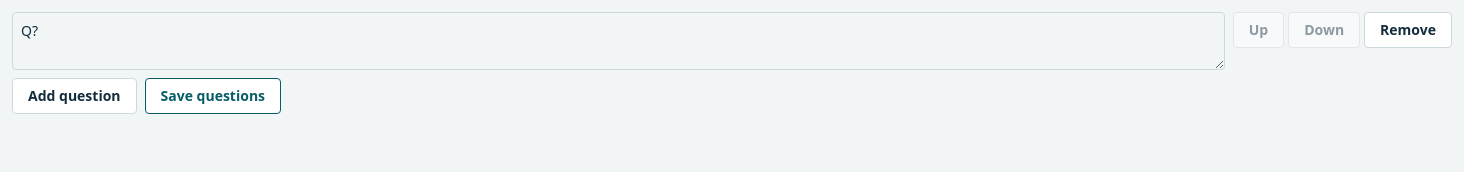
Test case: DraftQuestionsEditor (#154) › shows the server's refusal, e.g. once the audit is launched
What coordinates should you click on to do the following:
click the button with aria-label "Save questions for SEC-001"
I would click on:
 (213, 96)
Its box is [144,78,281,114].
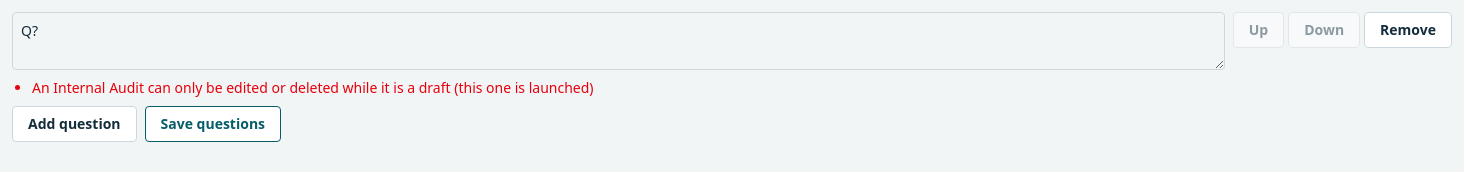
Expected: the message shows "while it is a draft", [32,78,594,97]
